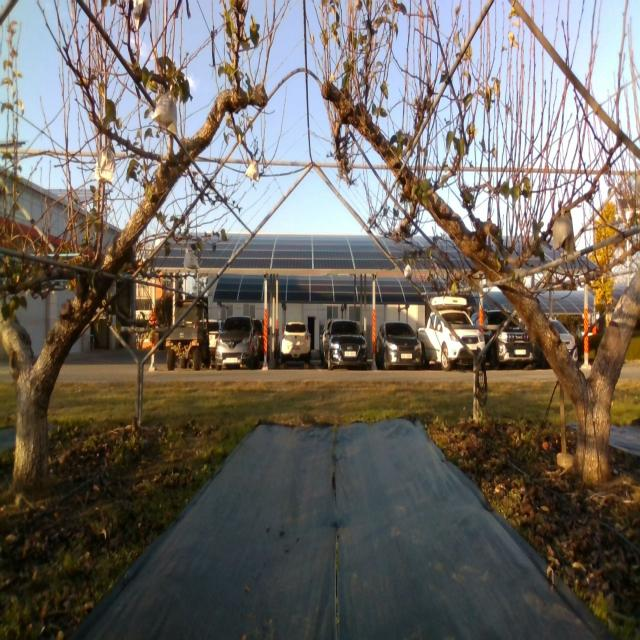pearbags: (151, 93, 179, 137), (553, 216, 575, 255), (95, 145, 115, 184), (245, 160, 260, 182), (184, 252, 200, 269)
